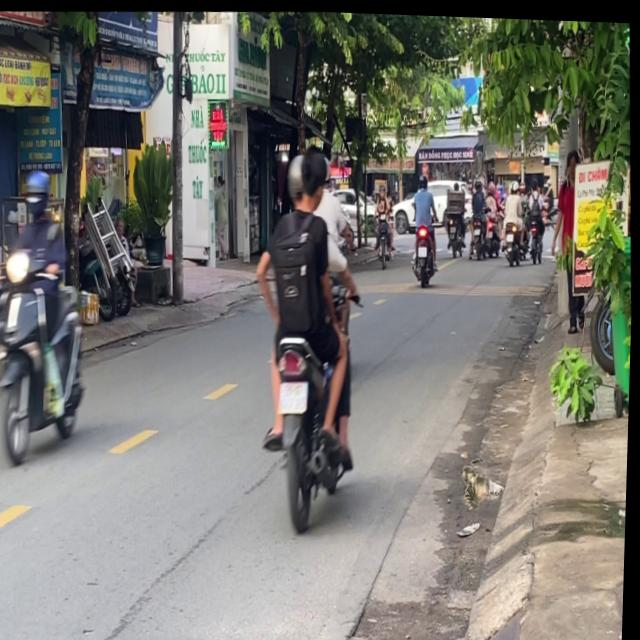helmet: (285, 146, 313, 211), (23, 167, 53, 220)
licenseplate: (245, 138, 373, 528), (0, 162, 97, 466)
motorcyclist: (293, 144, 330, 210)
nohelmet: (280, 377, 309, 410)
